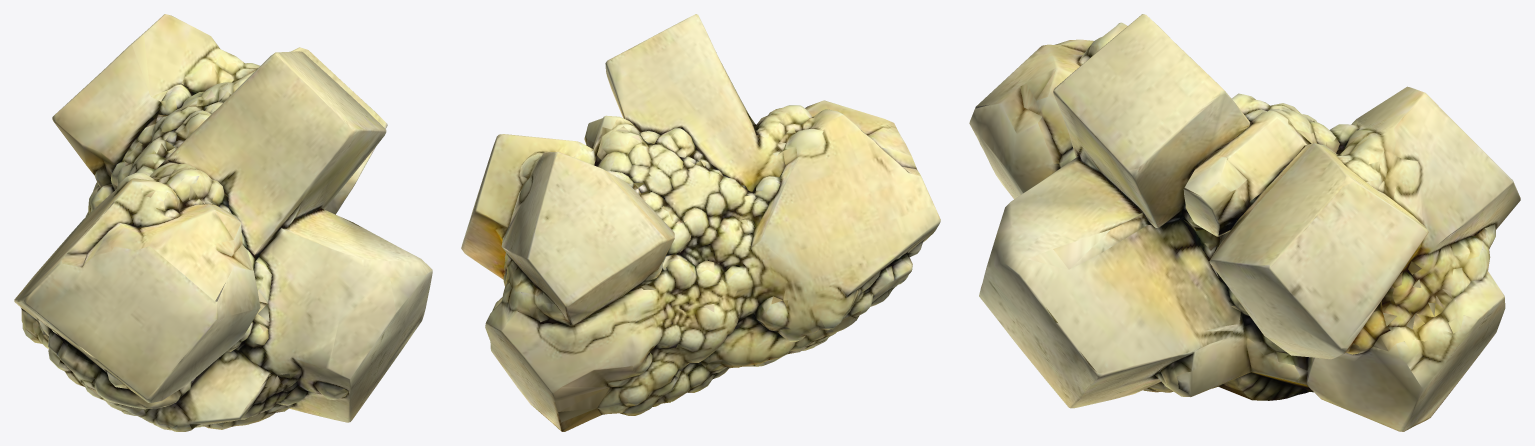
File: pyrite.glb
The picture shows the model from 3 angles, left to right: view 1: azimuth 30°, elevation 25°; view 2: azimuth 150°, elevation 25°; view 3: azimuth 270°, elevation 25°; orthographic projection. The views are drawn at different scales.
Parts seen in each view (by area): view 1: pyrite; view 2: pyrite; view 3: pyrite.
Boxes of the visible parts, left/top/right/bottom form: pyrite: left=14, top=14, right=432, bottom=431; pyrite: left=461, top=14, right=940, bottom=431; pyrite: left=969, top=14, right=1520, bottom=431.
Bounding box in the file's own units: 0.9614 × 0.7944 × 1.
Materials: 1 (1 with a texture image).
